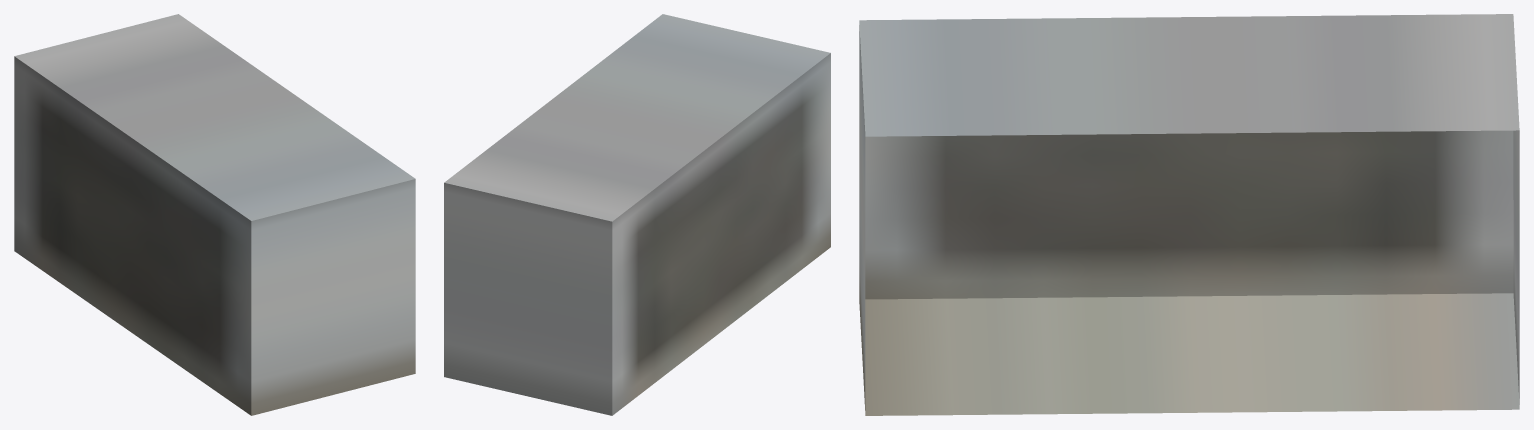
The model's file is object_826_lev3.glb.
3 views of the same model, side by side, from view 1: azimuth 30°, elevation 25°; view 2: azimuth 150°, elevation 25°; view 3: azimuth 270°, elevation 25° (orthographic). The views are drawn at different scales.
Parts seen in each view (by area): view 1: object_826_lev3; view 2: object_826_lev3; view 3: object_826_lev3.
Boxes of the visible parts, x1=… form: object_826_lev3: x1=14, y1=14, x2=415, y2=415; object_826_lev3: x1=444, y1=14, x2=830, y2=415; object_826_lev3: x1=859, y1=14, x2=1519, y2=415.
Bounding box in the file's own units: 0.292 × 0.31 × 0.6643.
Materials: 1 (1 with a texture image).
